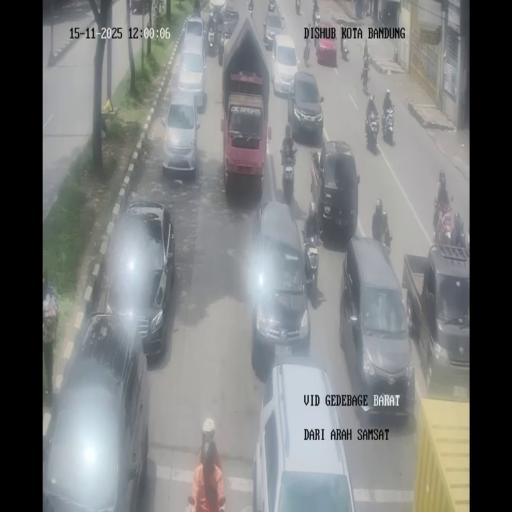car: (43, 310, 150, 508), (252, 360, 357, 509), (340, 239, 415, 417), (104, 202, 176, 362), (248, 198, 309, 362), (310, 138, 358, 242), (161, 92, 201, 178), (288, 71, 324, 143), (181, 15, 205, 64), (263, 9, 284, 50)
motorcycle: (301, 228, 320, 290), (280, 142, 297, 200), (436, 199, 453, 243), (364, 111, 380, 151), (381, 104, 395, 144), (218, 26, 231, 64), (201, 12, 210, 48), (380, 236, 392, 263), (360, 62, 370, 94), (312, 7, 321, 31), (340, 38, 349, 62), (216, 8, 224, 34), (208, 5, 217, 27), (303, 41, 310, 65), (193, 0, 200, 16), (362, 0, 369, 16), (248, 2, 254, 19), (296, 1, 302, 15), (378, 9, 384, 23), (268, 0, 275, 12)
truck: (403, 244, 469, 396), (413, 396, 470, 510), (221, 82, 267, 193), (316, 26, 337, 66)
